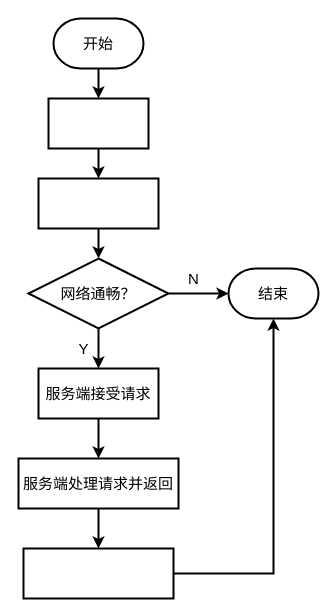
Image size: 336x616. Some labels were removed from this diagram. Here are the shapes that lost their labels. From the top down, the centre of each, then its label:
At pixel 98 123: "输入查询条件".
At pixel 98 203: "浏览器发送请求".
At pixel 98 573: "浏览接收并显示结果".
